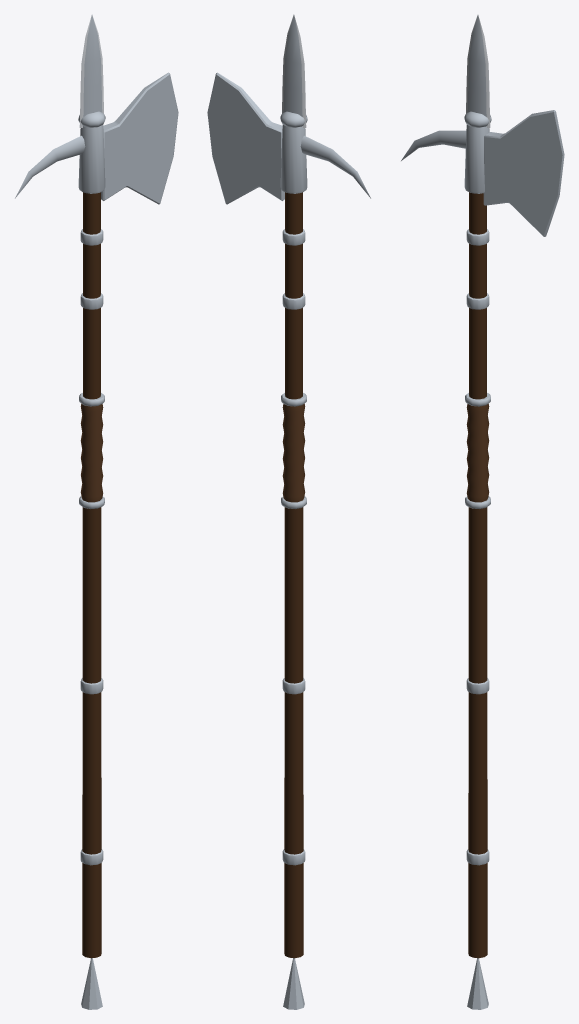
Rendered from steel_halberd.glb.
The picture shows the model from 3 angles, left to right: view 1: azimuth 30°, elevation 25°; view 2: azimuth 150°, elevation 25°; view 3: azimuth 330°, elevation 25°; orthographic projection.
Parts seen in each view (by area): view 1: steel_halberd; view 2: steel_halberd; view 3: steel_halberd.
Part boxes in pixels (box(x1,y1,x2,y2)): steel_halberd: box(15, 14, 178, 1009); steel_halberd: box(207, 14, 370, 1009); steel_halberd: box(401, 15, 564, 1009).
Size of the model in its own units: 0.402 by 2.32 by 0.06.
